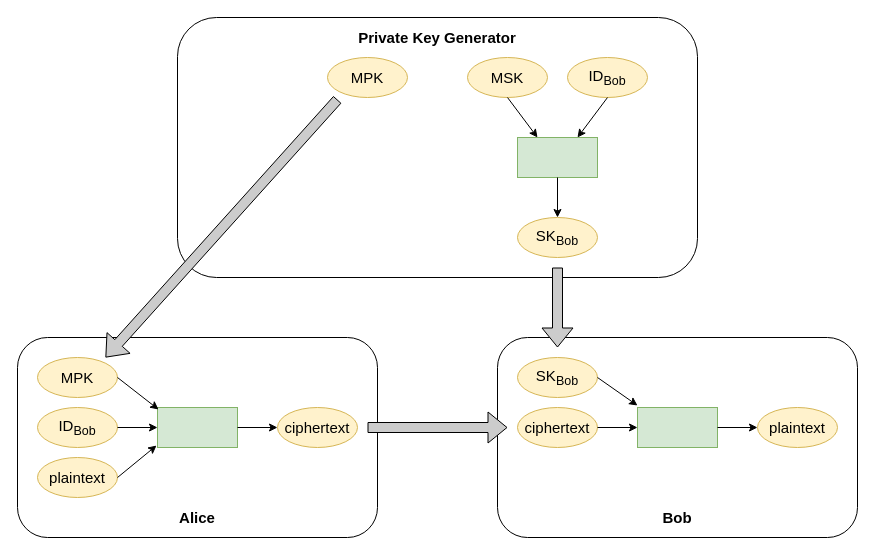
This 875x555 diagram has some shape labels left out. The shapes that lost their labels are listed below. From the top down, each one's centre as x and y in pixels, then its label:
At (557,157): "KeyGen".
At (197,427): "Encrypt".
At (677,427): "Decrypt".
